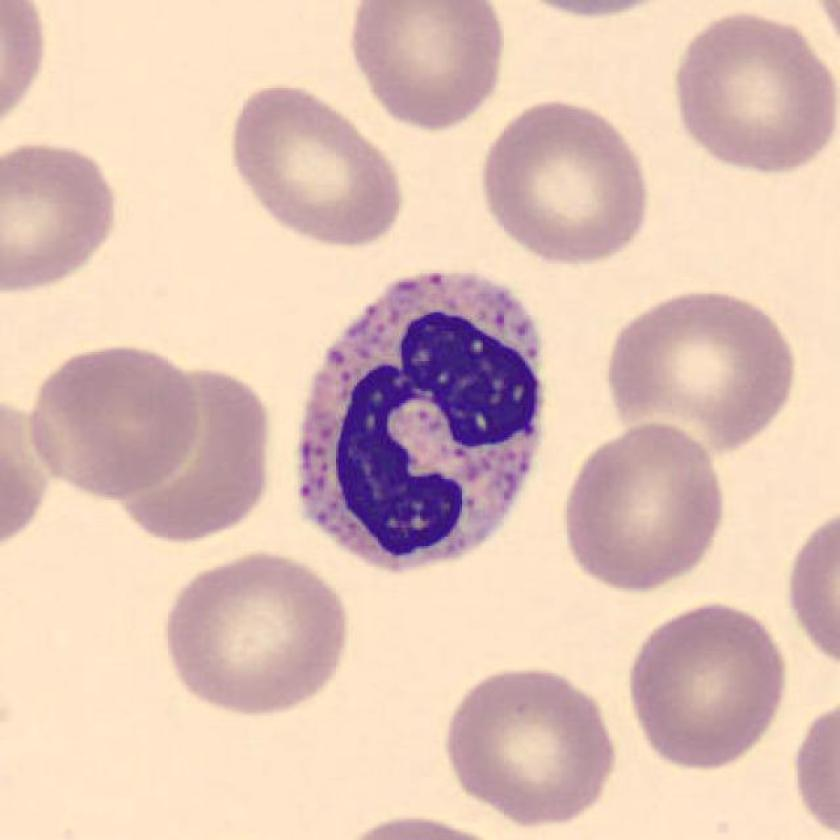neutrophil: (291, 270, 548, 575)
